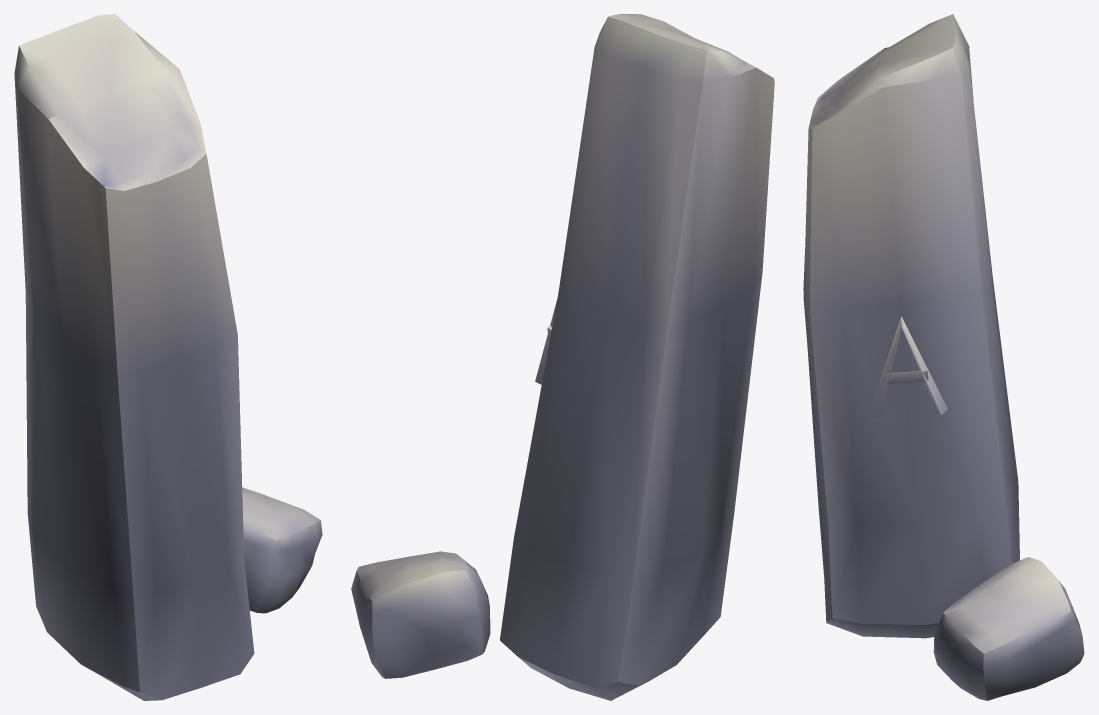
The model's file is ruin-Dotywtw9.glb.
3 renders of one model, left to right at view 1: azimuth 30°, elevation 25°; view 2: azimuth 150°, elevation 25°; view 3: azimuth 270°, elevation 25°, orthographic. The views are drawn at different scales.
Visible parts, largest first — view 1: ruin; view 2: ruin; view 3: ruin.
Boxes of the visible parts, box(x1,y1,x2,y2) form: ruin: box(14, 14, 322, 700); ruin: box(351, 14, 774, 700); ruin: box(803, 14, 1084, 700).
Bounding box in the file's own units: 1.21 × 2.26 × 0.9991.
